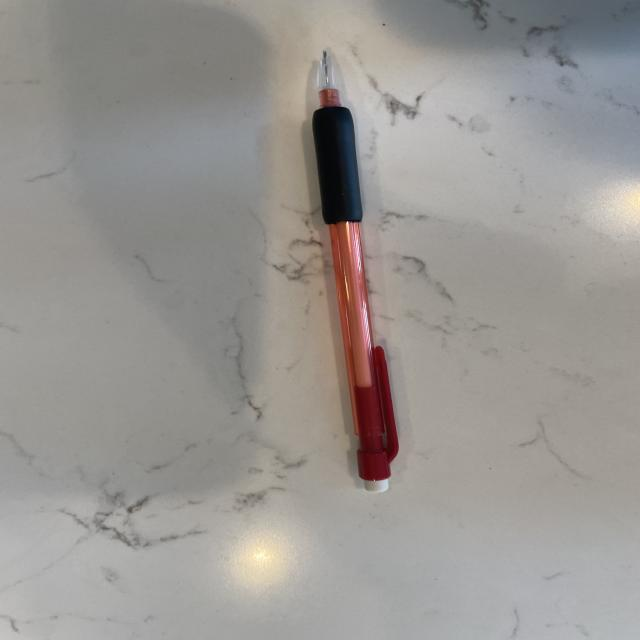mechanical-pencils: (318, 62, 400, 498)
